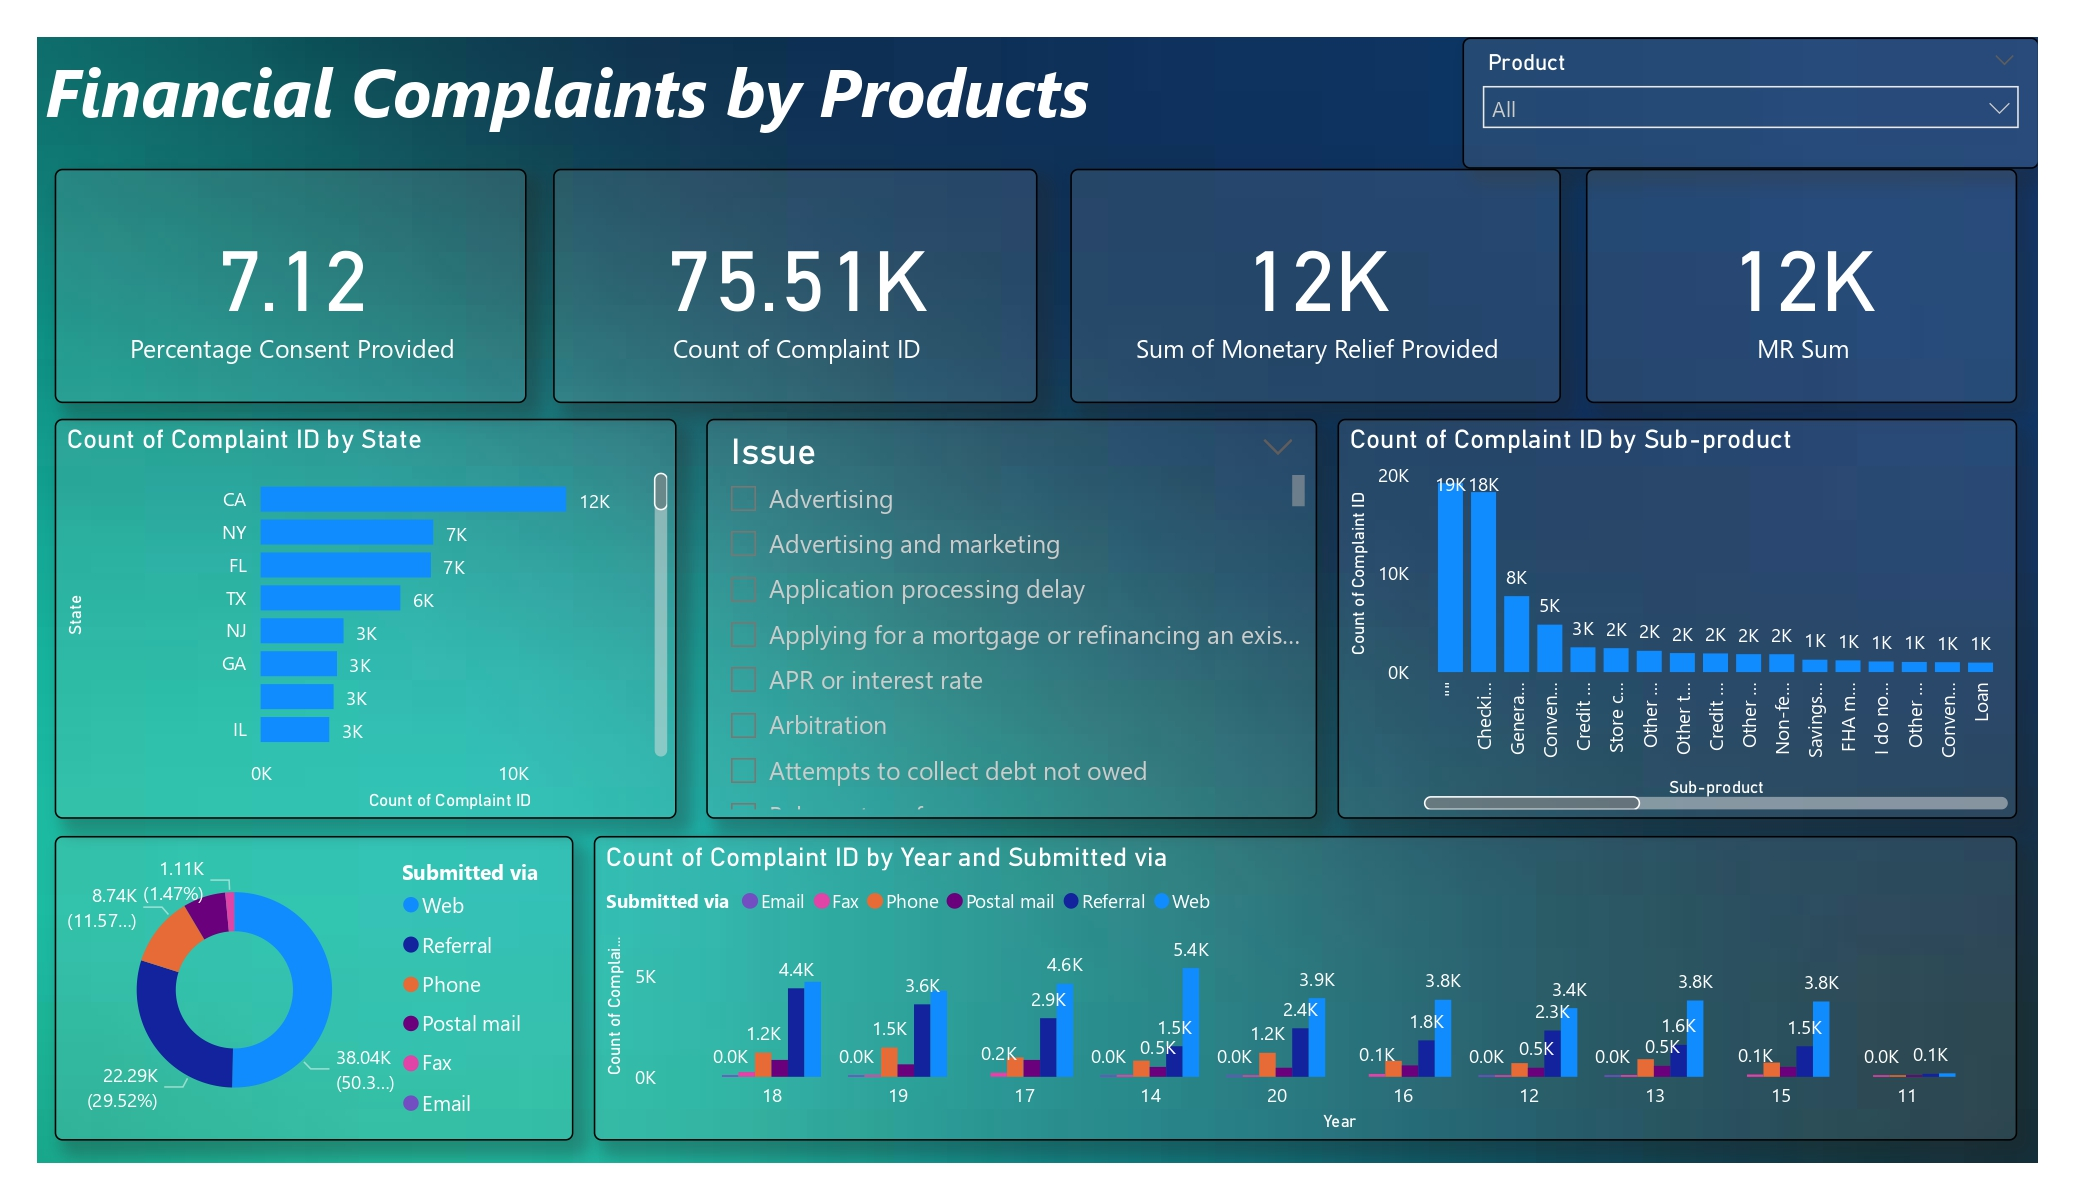

Layout of this report page (visuals, bound fields, positions):
{"tool":"powerbi","page":{"name":"Page 1","canvas":[1280,720],"ordinal":0},"visuals":[{"type":"card","fields":{"Values":["Financial Consumer Complaints.Percentage Consent Provided"]},"box":[11,83.6,301.6,150.8],"z":0},{"type":"slicer","fields":{"Values":["Financial Consumer Complaints.Product"]},"box":[911.7,0,368.8,83.6],"z":1000},{"type":"card","fields":{"Values":["Financial Consumer Complaints.MR Sum"]},"box":[991.3,83.6,275.6,150.8],"z":2000},{"type":"card","title":"Number of ","fields":{"Values":["CountNonNull(Financial Consumer Complaints.Complaint ID)"]},"box":[330.4,83.6,309.9,150.8],"z":3000},{"type":"textbox","box":[0,0,711.6,74],"z":4000},{"type":"card","fields":{"Values":["Sum(Financial Consumer Complaints.Monetary Relief Provided)"]},"box":[660.8,83.6,314,150.8],"z":5000},{"type":"donutChart","fields":{"Category":["Financial Consumer Complaints.Submitted via"],"Y":["CountNonNull(Financial Consumer Complaints.Complaint ID)"]},"box":[11,511.4,331.8,194.7],"z":6000},{"type":"barChart","fields":{"Category":["Financial Consumer Complaints.State"],"Y":["CountNonNull(Financial Consumer Complaints.Complaint ID)"]},"box":[11,244,397.6,256.4],"z":7000},{"type":"slicer","fields":{"Values":["Financial Consumer Complaints.Issue"]},"box":[427.8,244,390.7,256.4],"z":8000},{"type":"columnChart","fields":{"Y":["CountNonNull(Financial Consumer Complaints.Complaint ID)"],"Category":["Financial Consumer Complaints.Sub-product"]},"box":[832.2,244,434.6,256.4],"z":9000},{"type":"clusteredColumnChart","fields":{"Category":["Financial Consumer Complaints.Year"],"Y":["CountNonNull(Financial Consumer Complaints.Complaint ID)"],"Series":["Financial Consumer Complaints.Submitted via"]},"box":[356.5,511.4,910.4,194.7],"z":10000}]}

Visuals, with their boxes in screenshot pixels (x1, y1, x2, y2):
card - Financial Consumer Complaints.Percentage Consent Provided: (left=55, top=168, right=526, bottom=404)
slicer - Financial Consumer Complaints.Product: (left=1462, top=38, right=2038, bottom=168)
card - Financial Consumer Complaints.MR Sum: (left=1586, top=168, right=2017, bottom=404)
"Number of " card: (left=554, top=168, right=1038, bottom=404)
textbox: (left=38, top=38, right=1149, bottom=153)
card - Sum(Financial Consumer Complaints.Monetary Relief Provided): (left=1070, top=168, right=1561, bottom=404)
donutChart - Financial Consumer Complaints.Submitted via x CountNonNull(Financial Consumer Complaints.Complaint ID): (left=55, top=837, right=573, bottom=1141)
barChart - Financial Consumer Complaints.State x CountNonNull(Financial Consumer Complaints.Complaint ID): (left=55, top=419, right=676, bottom=819)
slicer - Financial Consumer Complaints.Issue: (left=706, top=419, right=1316, bottom=819)
columnChart - CountNonNull(Financial Consumer Complaints.Complaint ID) x Financial Consumer Complaints.Sub-product: (left=1338, top=419, right=2017, bottom=819)
clusteredColumnChart - Financial Consumer Complaints.Year x CountNonNull(Financial Consumer Complaints.Complaint ID): (left=595, top=837, right=2017, bottom=1141)
